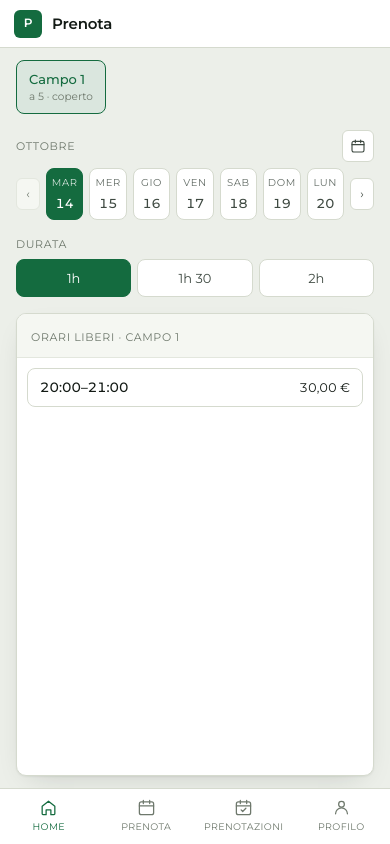
Test: BookPage — il foglio di conferma su telefono › scelto un orario compare il foglio, con l'importo già a schermo
Click the button "20:00–21:00 30,00 €": (60, 387) top-left (27, 368), bottom-right (363, 407)
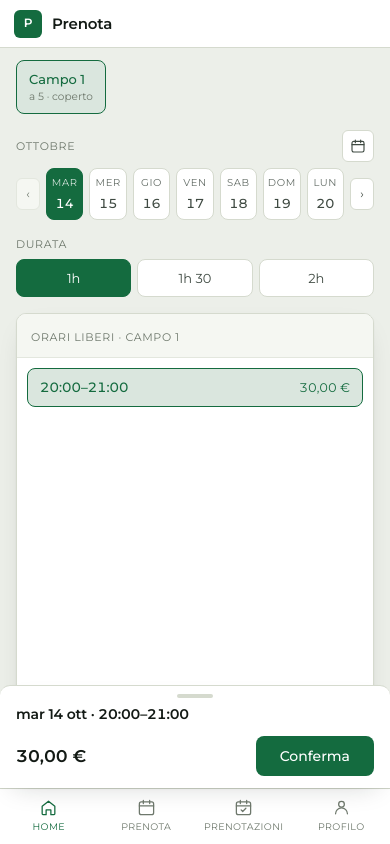
expect the text "30,00 €" is shown: met, box top-left (299, 378), bottom-right (350, 398)
expect the button with aria-label "Mostra il dettaglio" is shown: met, box top-left (0, 686), bottom-right (389, 730)
